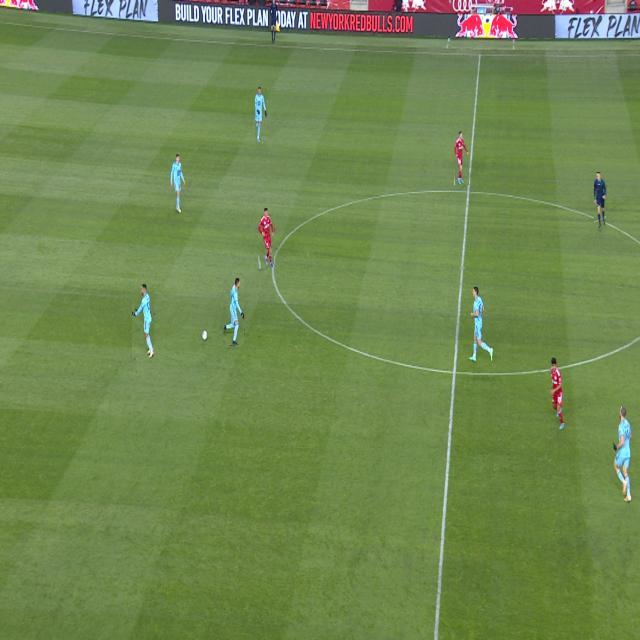football: (202, 330, 207, 340)
player: (613, 405, 632, 501), (469, 286, 493, 362), (132, 284, 154, 358), (224, 279, 244, 345), (551, 358, 565, 429), (170, 153, 185, 213), (259, 209, 274, 268), (454, 132, 469, 185), (255, 87, 267, 142)
referee: (594, 172, 606, 229)
